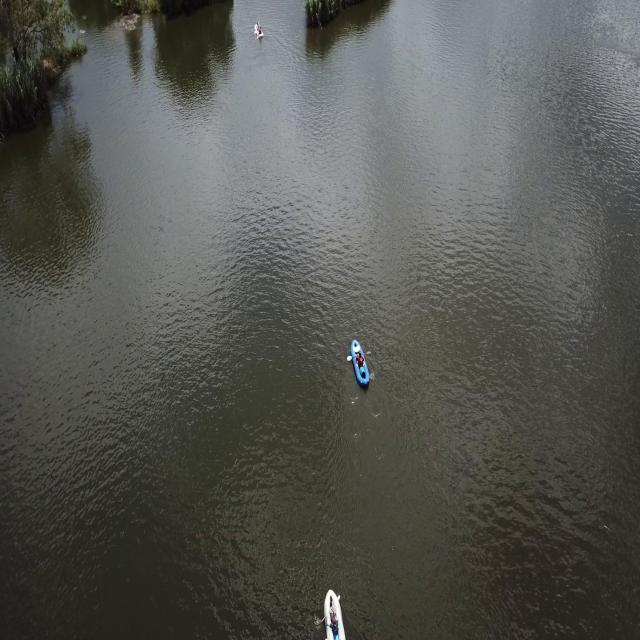kayak: (314, 587, 350, 639), (346, 336, 374, 396), (253, 16, 265, 44)
